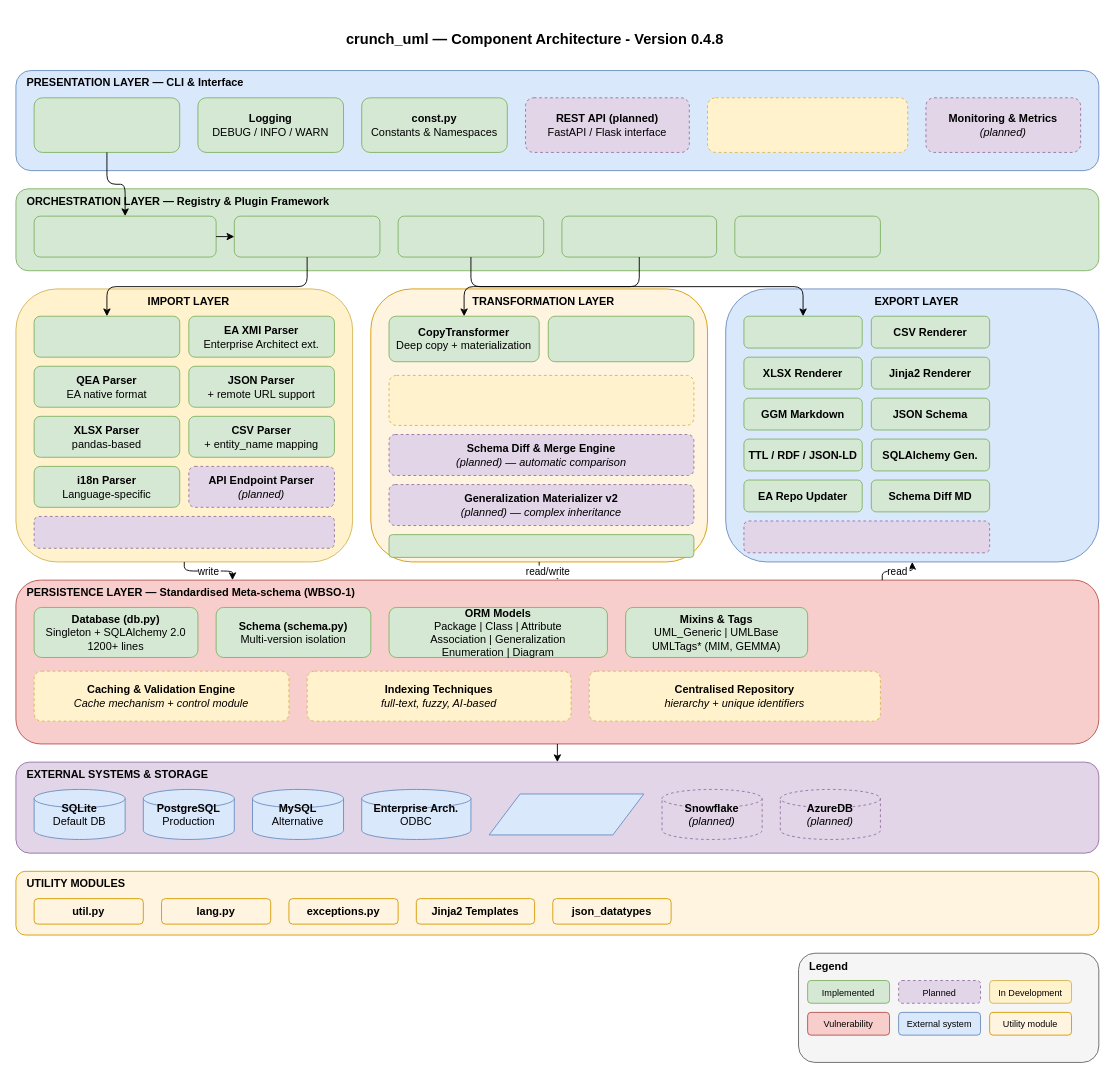
Some shapes in this 1115 by 1078 pixel diagram are drawn without their labels. Each missing label, with the centre of its shape:
"cli.py ArgumentParser main() entrypoint" goes at point (106, 124).
"Configuration Module Manage data exchanges & logging" goes at point (807, 124).
"File System XMI, JSON, CSV, XLSX" goes at point (566, 814).
"GraphQL / OpenAPI Renderer (planned)" goes at point (866, 536).
"JSON Renderer" goes at point (802, 331).
"lang.py — Translation Module" goes at point (541, 545).
"ParserRegistry 7 parsers" goes at point (306, 236).
"Plugin Framework Dynamic loading" goes at point (807, 236).
"PluginTransformer Dynamic plugins" goes at point (620, 338).
"Registry (registry.py) @register decorator pattern" goes at point (124, 236).
"RendererRegistry 11 renderers" goes at point (470, 236).
"Streaming / Chunked Parser (planned) — for large files" goes at point (183, 532).
"TransformerRegistry 2 + plugin-based" goes at point (639, 236).
"Universal Mapping Layer database-agnostic mapping" goes at point (541, 399).
"XMI Parser Standard XMI 2.1" goes at point (106, 336).
